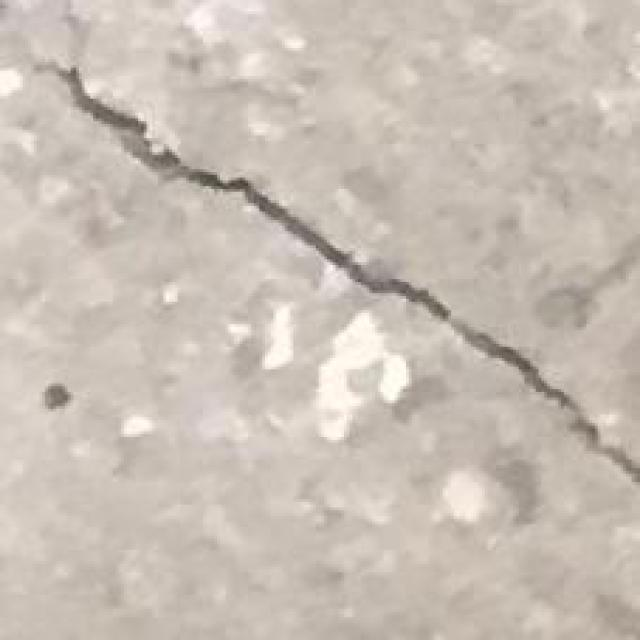crack: (30, 54, 638, 487)
